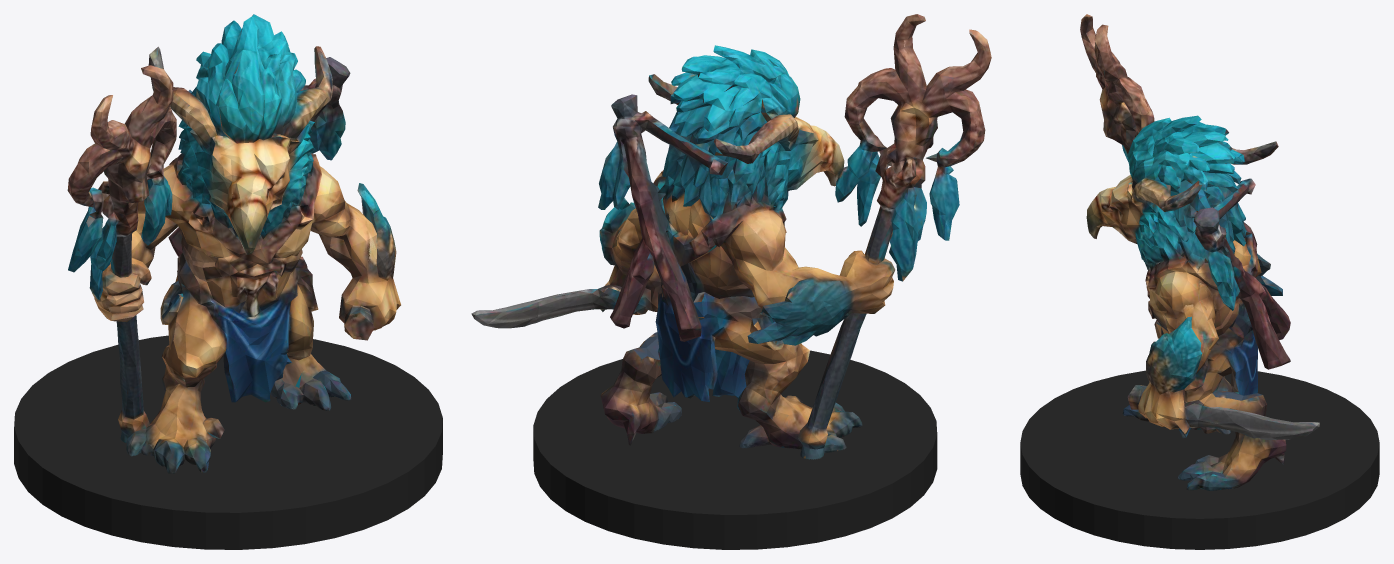
The model's file is wc-tzaangor-icon-bearer.glb.
3 views of the same model, side by side, from view 1: azimuth 30°, elevation 25°; view 2: azimuth 150°, elevation 25°; view 3: azimuth 270°, elevation 25° (orthographic). The views are drawn at different scales.
Visible parts, largest first — view 1: figure, base; view 2: figure, base; view 3: figure, base.
Boxes of the visible parts, x1=… form: figure: x1=67, y1=14, x2=400, y2=473; base: x1=14, y1=335, x2=442, y2=549; figure: x1=471, y1=14, x2=991, y2=459; base: x1=533, y1=350, x2=937, y2=549; figure: x1=1080, y1=14, x2=1319, y2=490; base: x1=1020, y1=370, x2=1379, y2=549.
Size of the model in its own units: 1.43 by 1.52 by 1.26.
2 materials, 1 textured.
